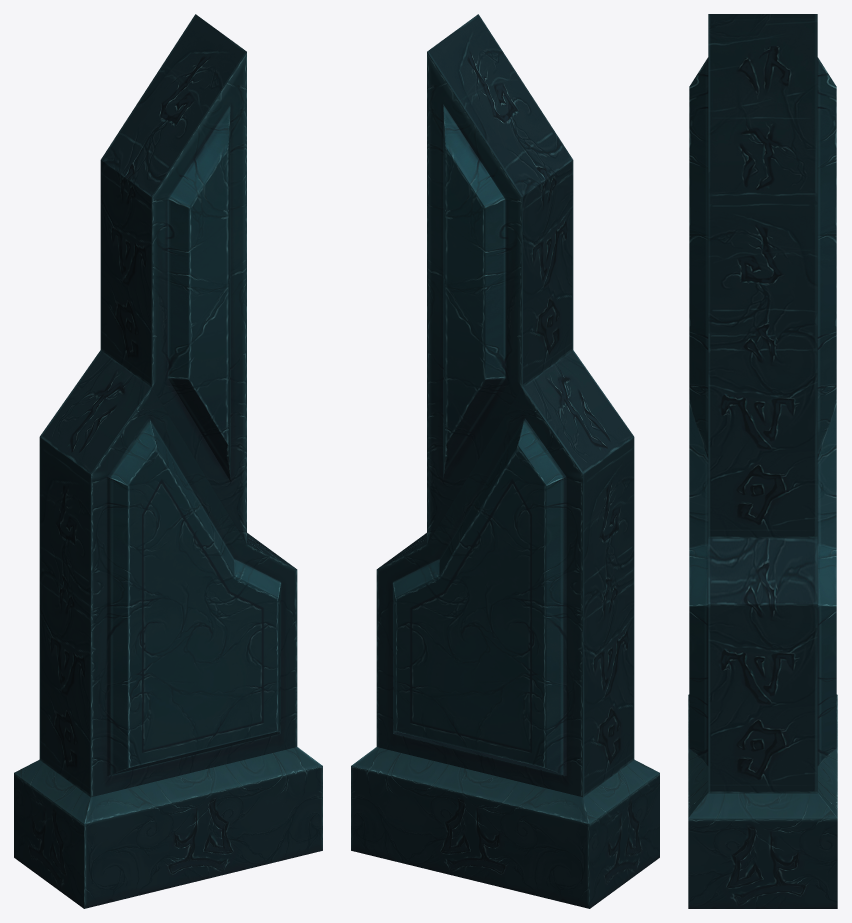
Rendered from SM_Pillar.FBX.
3 views of the same model, side by side, from view 1: azimuth 30°, elevation 25°; view 2: azimuth 150°, elevation 25°; view 3: azimuth 270°, elevation 25° (orthographic). The views are drawn at different scales.
Parts seen in each view (by area): view 1: SM_Pillar; view 2: SM_Pillar; view 3: SM_Pillar.
Boxes of the visible parts, x1,y1,x2,y2 form: SM_Pillar: (14, 14, 322, 908); SM_Pillar: (351, 14, 659, 908); SM_Pillar: (688, 14, 837, 908).
Size of the model in its own units: 147 by 477 by 75.02.
